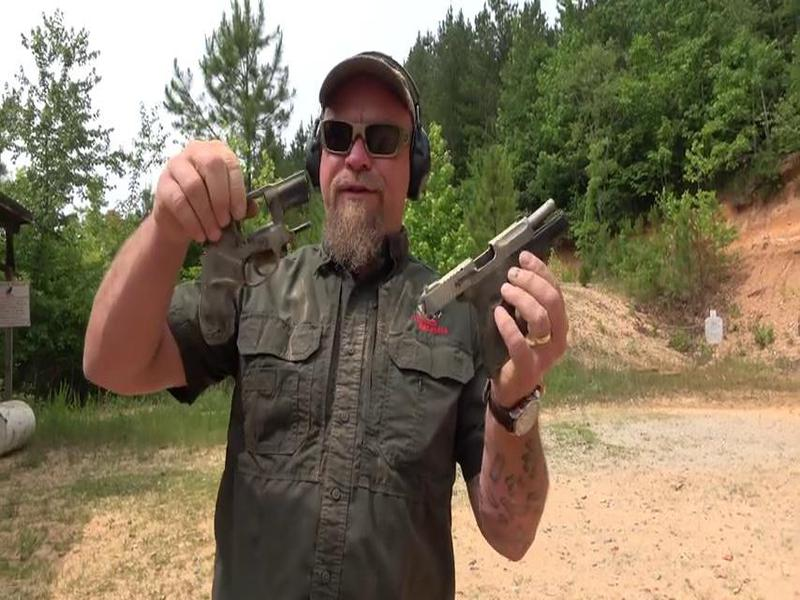Pistola: (401, 180, 567, 389)
Revolver: (156, 148, 335, 345)
